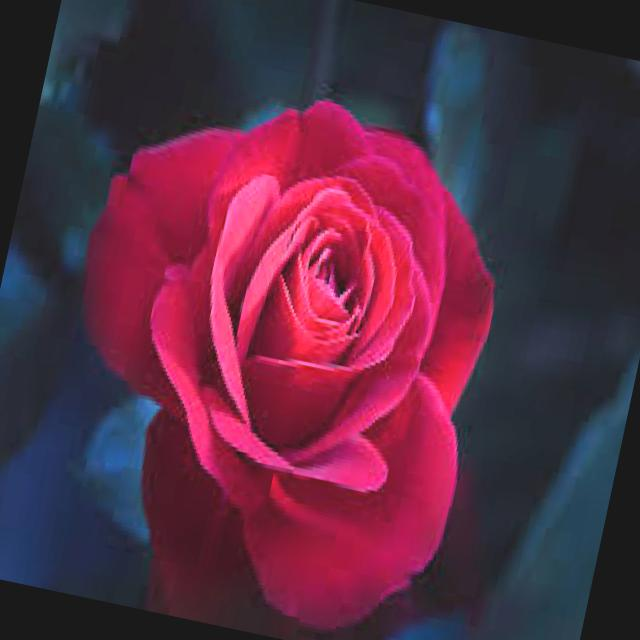rose: (12, 42, 550, 640)
